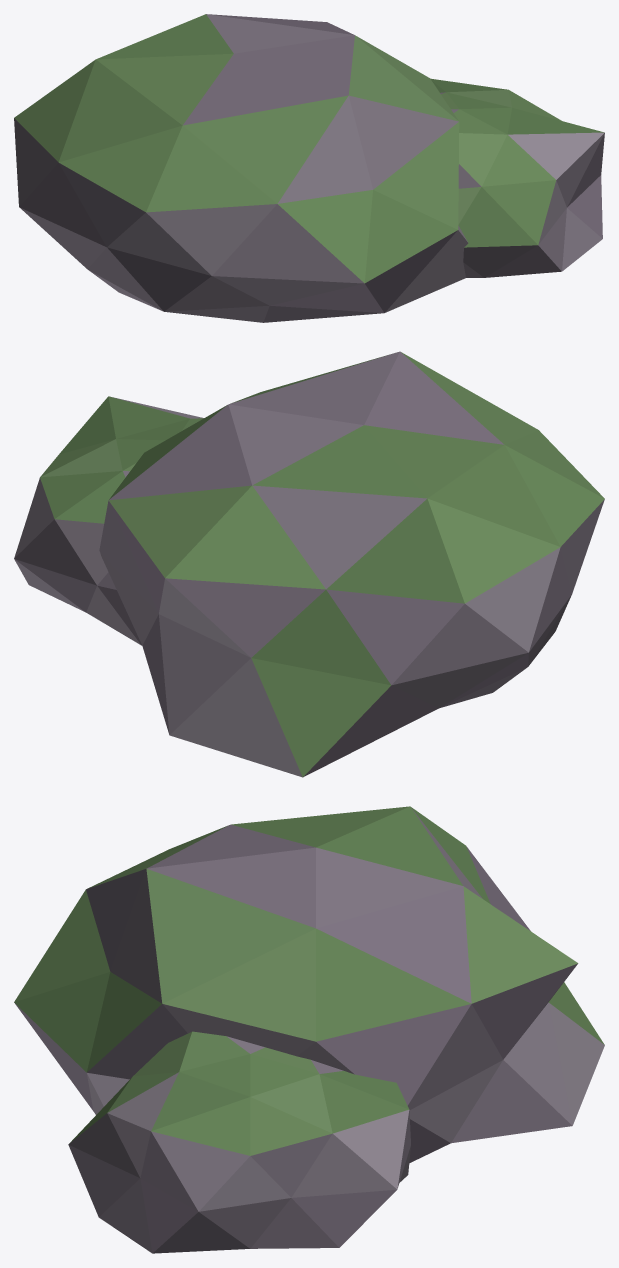
File: Rock_Mossy_B.fbx
The picture shows the model from 3 angles, top to bottom: view 1: azimuth 30°, elevation 25°; view 2: azimuth 150°, elevation 25°; view 3: azimuth 270°, elevation 25°; orthographic projection. The views are drawn at different scales.
Visible parts, largest first — view 1: Rock_Mossy_B; view 2: Rock_Mossy_B; view 3: Rock_Mossy_B.
Boxes of the visible parts, x1,y1,x2,y2 form: Rock_Mossy_B: (14, 14, 604, 322); Rock_Mossy_B: (14, 351, 604, 777); Rock_Mossy_B: (14, 806, 604, 1253).
Bounding box in the file's own units: 2.02 × 0.8249 × 1.8.
